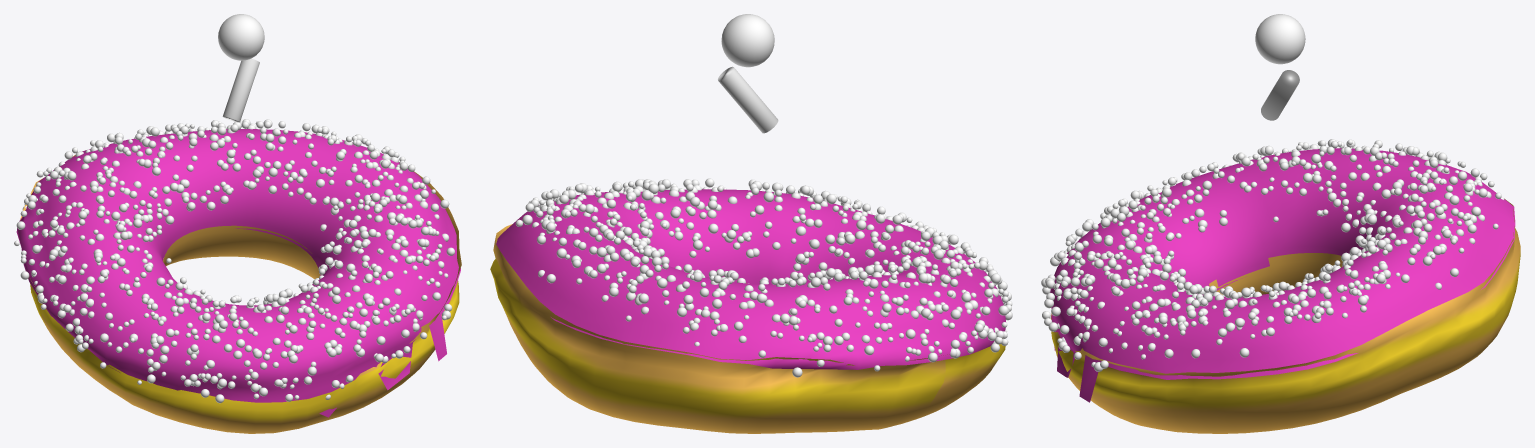
File: chair.glb
3 renders of one model, left to right at view 1: azimuth 30°, elevation 25°; view 2: azimuth 150°, elevation 25°; view 3: azimuth 270°, elevation 25°, orthographic. The views are drawn at different scales.
Parts seen in each view (by area): view 1: Torus.001, Torus.002, Sphere, Cylinder; view 2: Torus.001, Torus.002, Sphere, Cylinder; view 3: Torus.001, Torus.002, Sphere, Cylinder.
Part boxes in pixels (x1,y1,x2,y2): Torus.001: (16, 129, 460, 417); Torus.002: (20, 155, 461, 433); Sphere: (218, 14, 264, 60); Cylinder: (222, 58, 259, 122); Torus.001: (496, 189, 1005, 369); Torus.002: (490, 224, 1005, 433); Sphere: (721, 14, 774, 67); Cylinder: (718, 66, 778, 133); Torus.001: (1050, 148, 1515, 402); Torus.002: (1050, 198, 1520, 433); Sphere: (1255, 14, 1305, 64); Cylinder: (1261, 70, 1299, 120).
Bounding box in the file's own units: 3.12 × 2.58 × 3.01.
4 materials, 1 textured.
